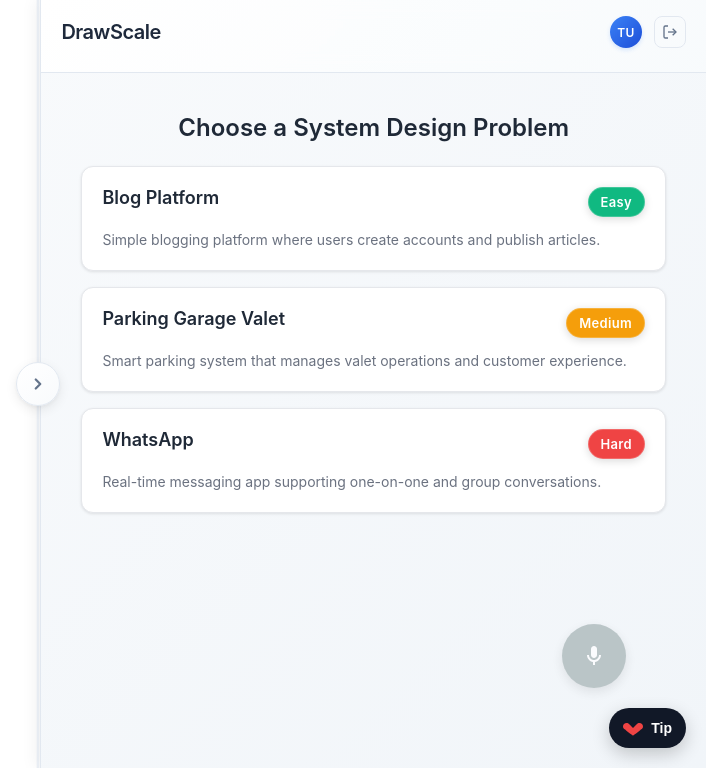
it: Component Interaction Tests › Problem Navigation Flow › navigates back to problems list when back button is clicked
Click on a problem to view it
Click the heading "Blog Platform" at (161, 198), box x1=102 y1=187 x2=219 y2=208
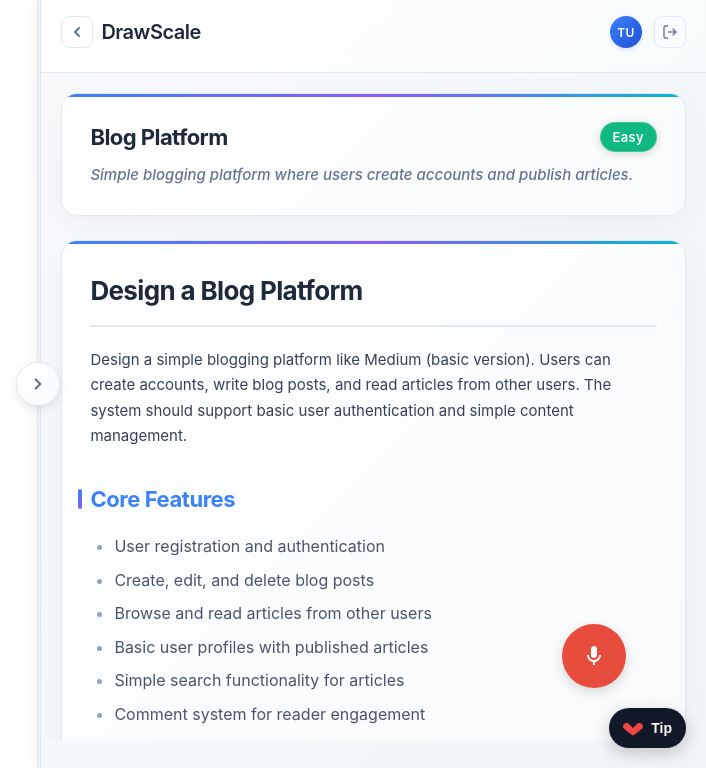
Now the button named "Back to problems list" is shown
Click the back button
Click the button named "Back to problems list" at (77, 32), box x1=61 y1=16 x2=93 y2=48
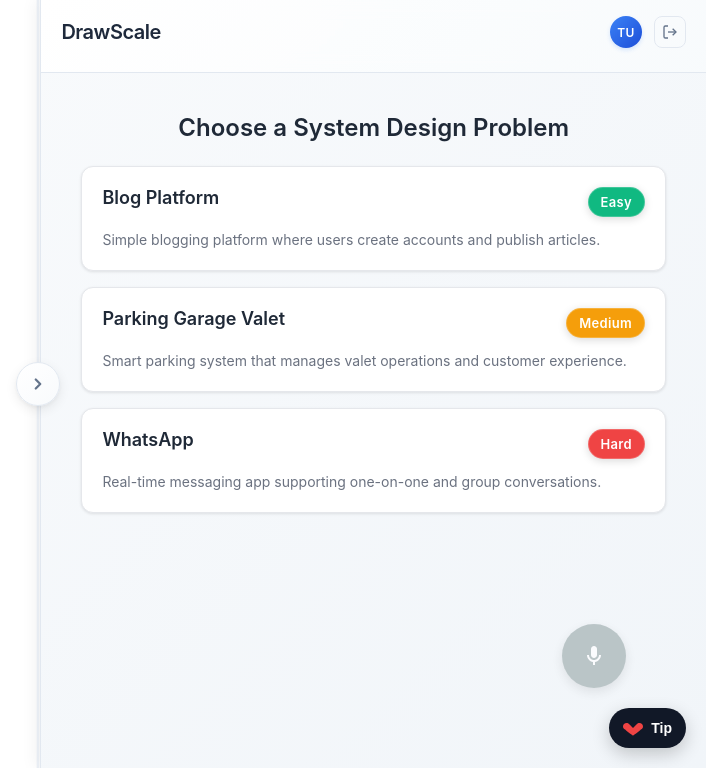
Now the heading "Choose a System Design Problem" is shown, box x1=178 y1=113 x2=569 y2=142
